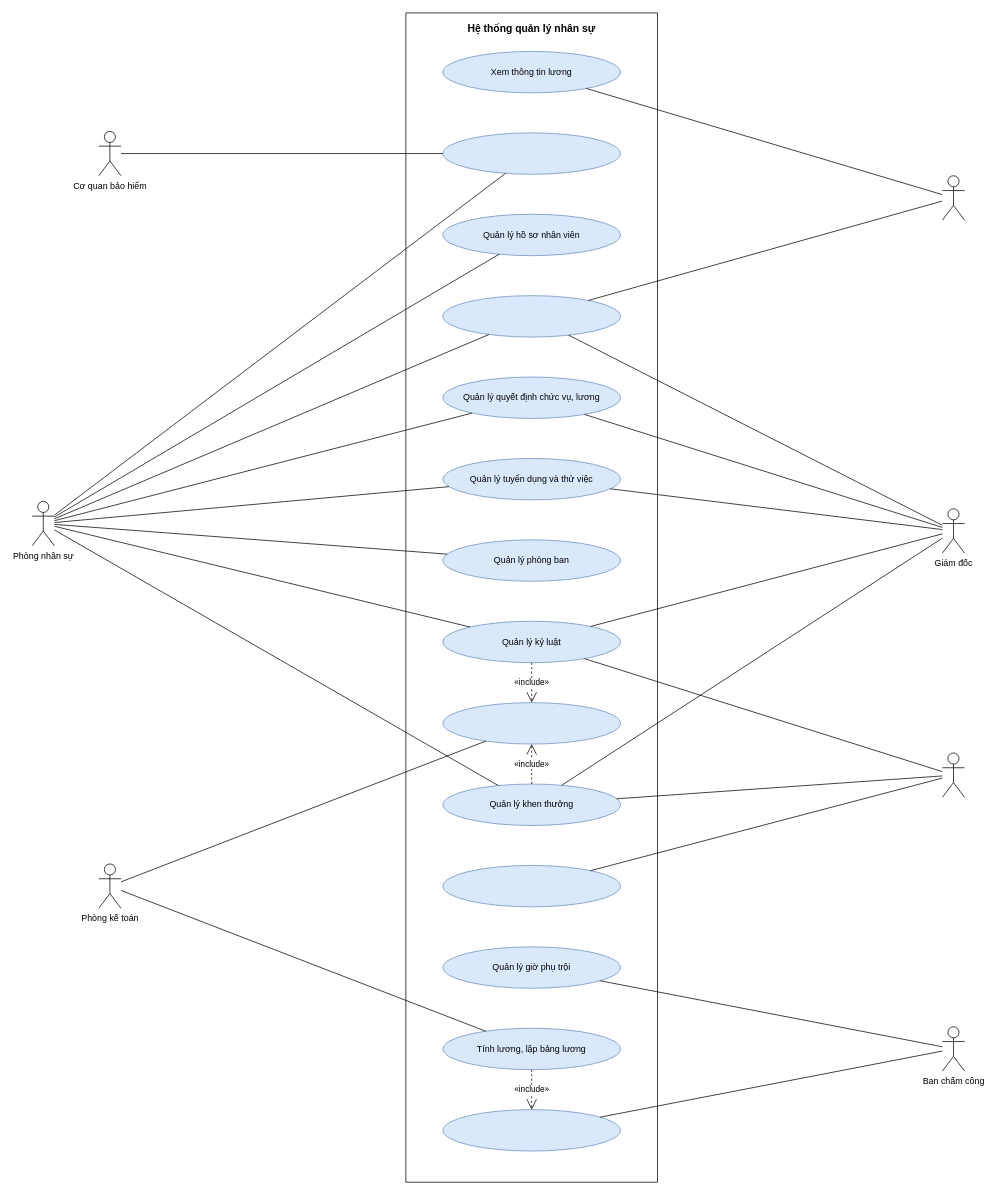
Some shapes in this 1003 by 1195 pixel diagram are drawn without their labels. Each missing label, with the centre of its shape:
Lập kế hoạch phân công ca làm việc: the point at 531,886
Nhân viên: the point at 953,197
Quản lý BHYT, BHXH: the point at 531,153
Quản lý chấm công: the point at 531,1130
Quản lý hợp đồng lao động: the point at 531,316
Quản lý phiếu thu, phiếu chi: the point at 531,723
Trưởng phòng/ban: the point at 953,774
